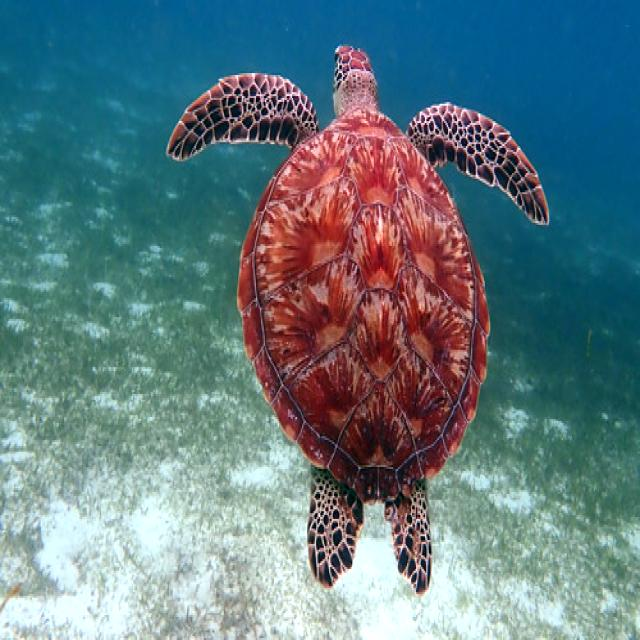Sea turtle: (163, 33, 553, 594)
